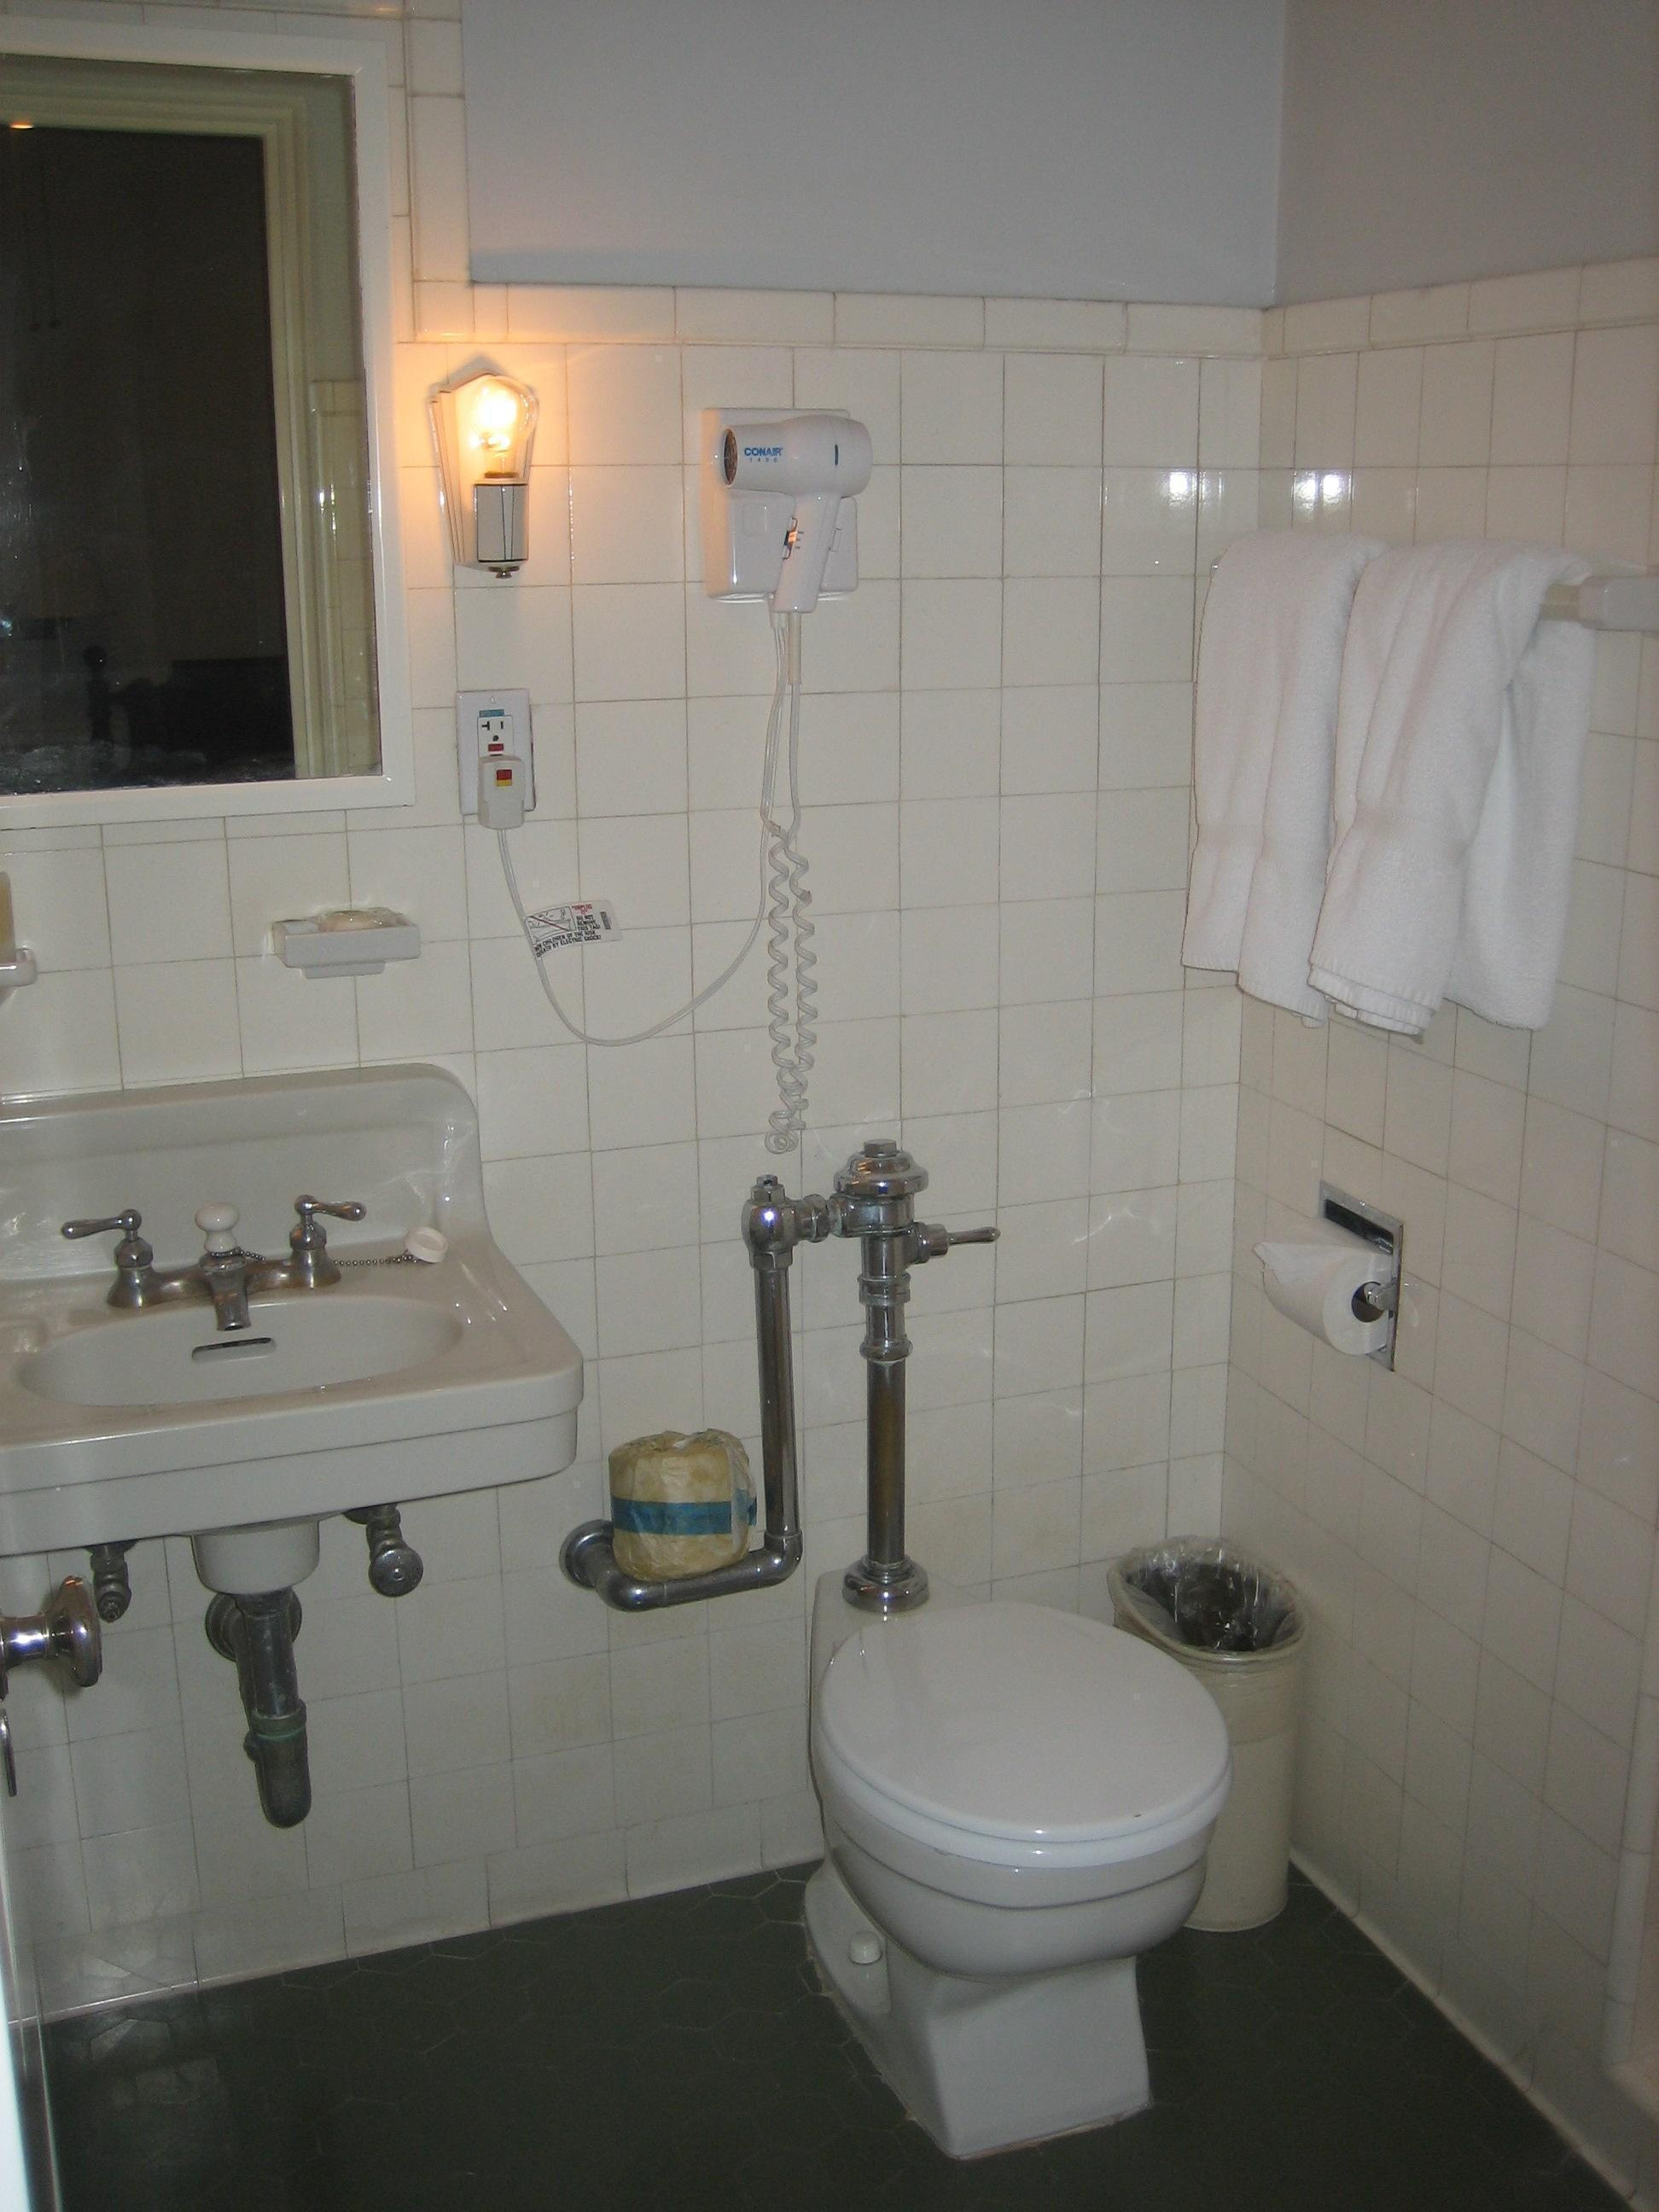Bote de Basura: (1087, 1491, 1344, 1973)
Lavamanos: (30, 1089, 582, 1846)
Sanitario: (633, 1198, 1220, 2155)
